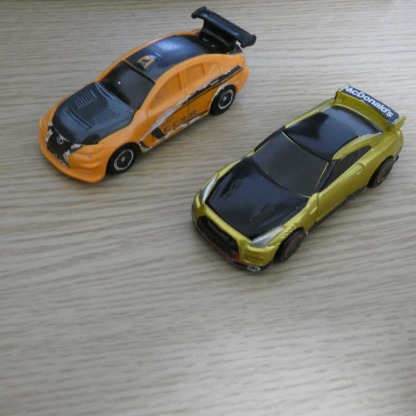car: (36, 7, 254, 188), (192, 86, 400, 275)
